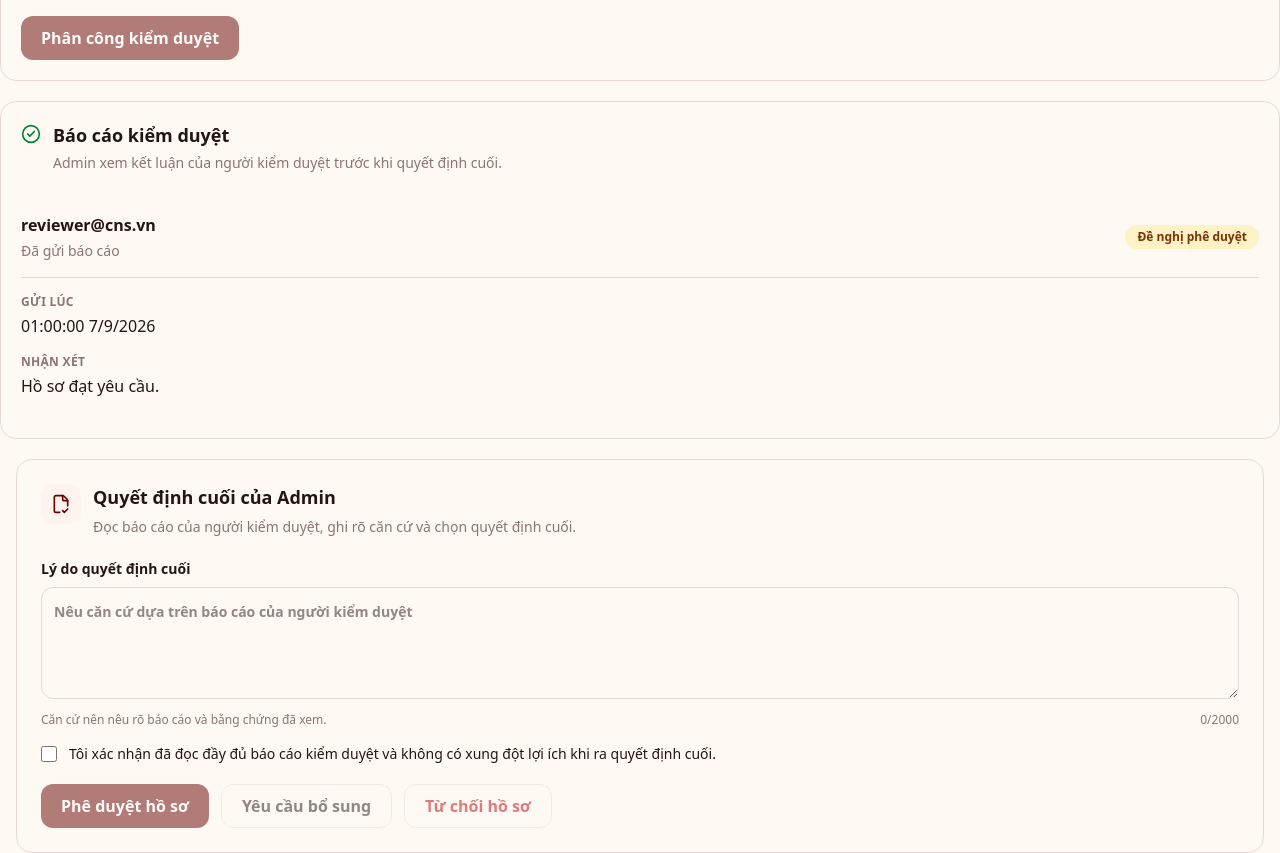
Test: ReviewAssignmentQueue › explains when the backend still considers the reviewer report incomplete
(page scrolled)
Type "Đồng ý với kết luận của người kiểm duyệt." into the text box labelled "Lý do quyết định cuối". click: (640, 643)
box: [41,587,1239,699]
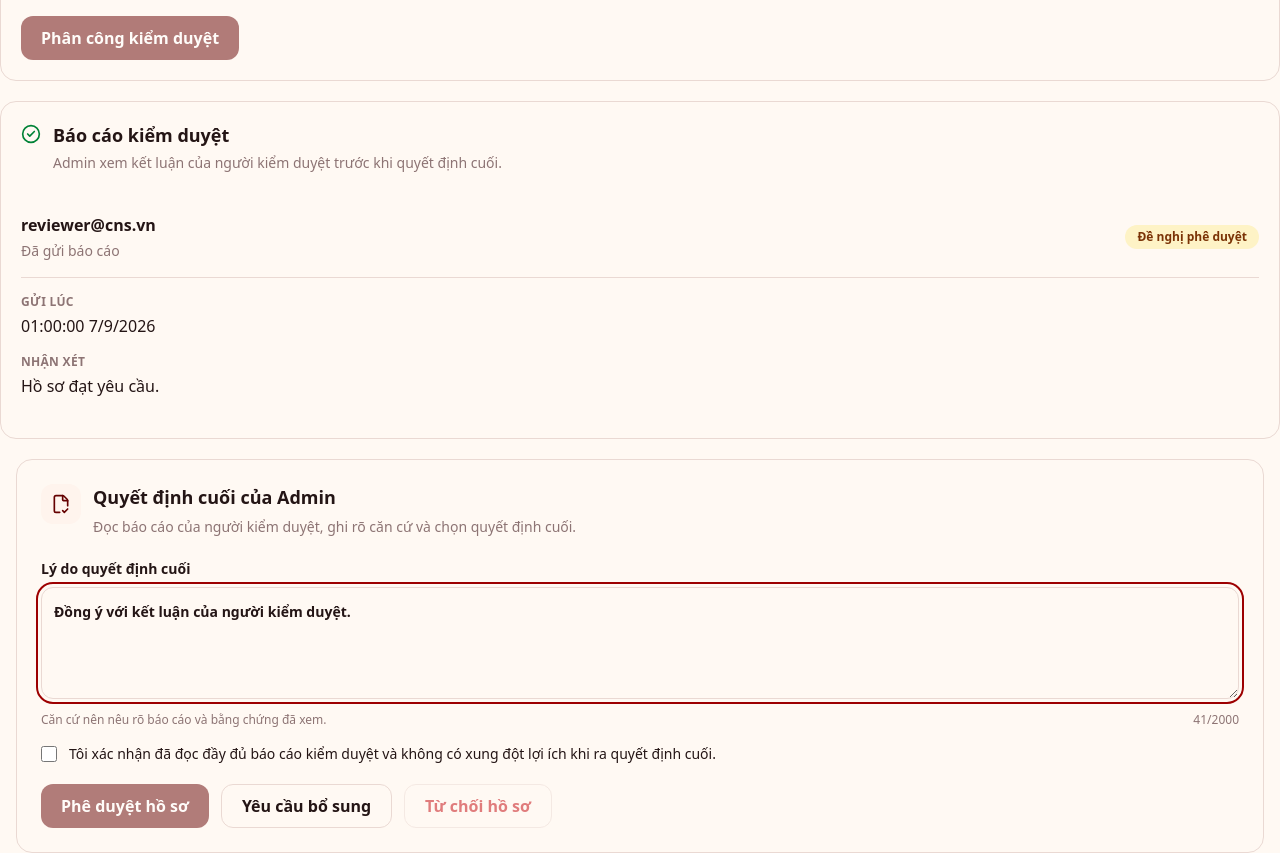
Click the checkbox labelled "không có xung đột lợi ích". click: click(49, 754)
box: [41,746,57,762]
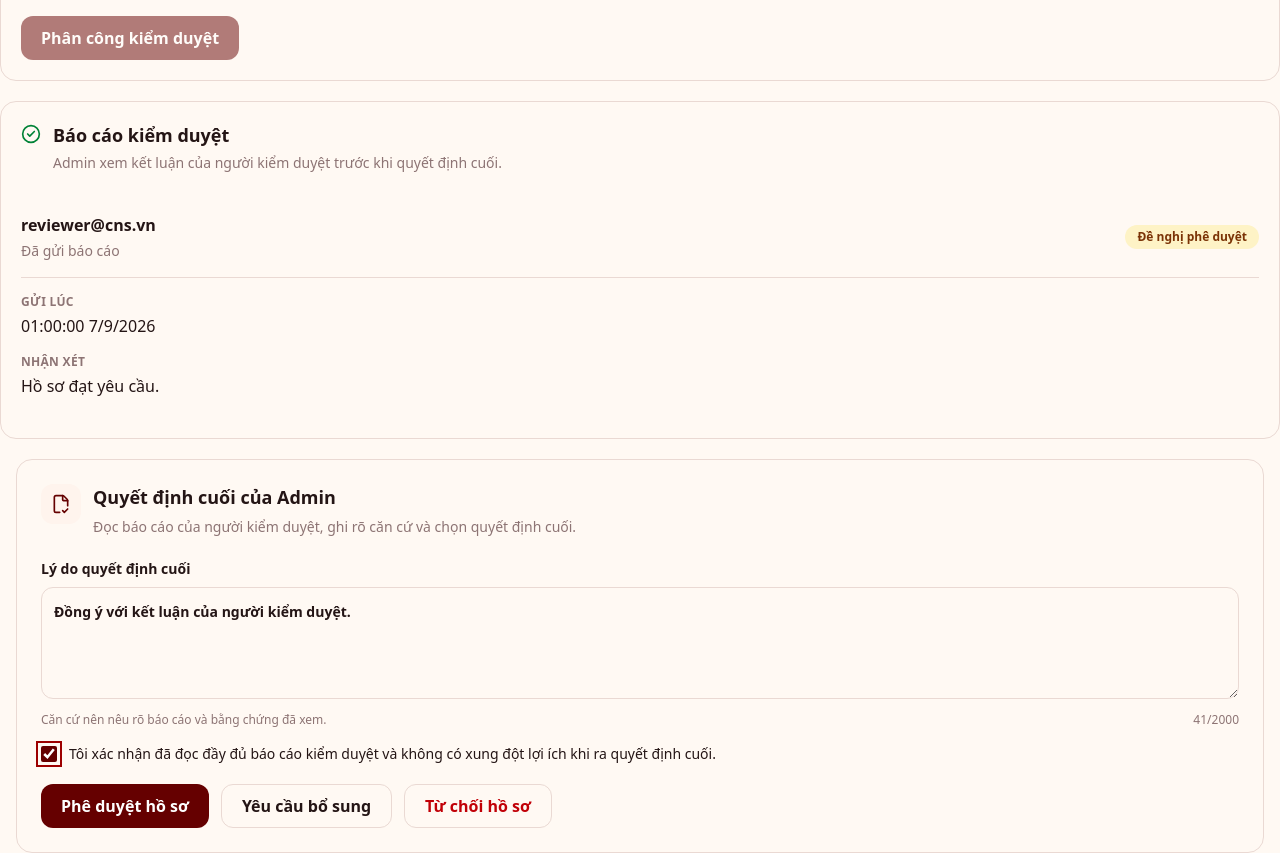
Click the button "Phê duyệt hồ sơ". click: click(125, 806)
box: [41,784,209,828]
(page scrolled)
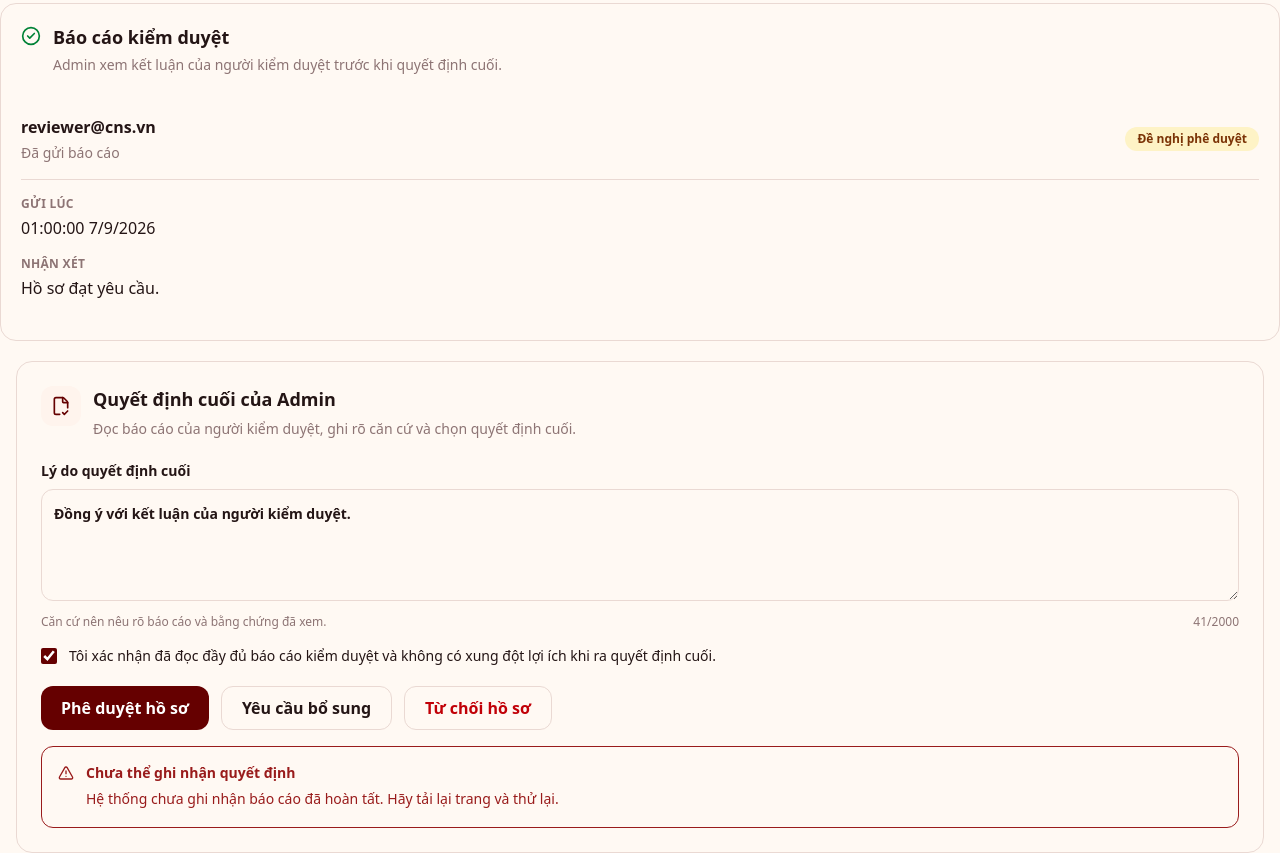
Now the text "Hệ thống chưa ghi nhận báo cáo đã hoàn tất. Hãy tải lại trang và thử lại." is shown, box [86,787,559,811]
